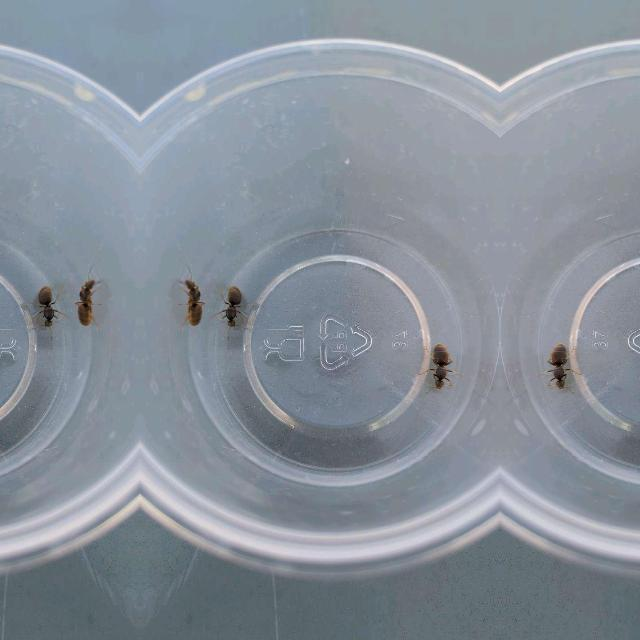Lasius: (216, 278, 247, 329), (32, 278, 62, 329), (422, 340, 454, 386), (544, 340, 576, 386), (183, 278, 205, 329), (73, 278, 95, 329)
